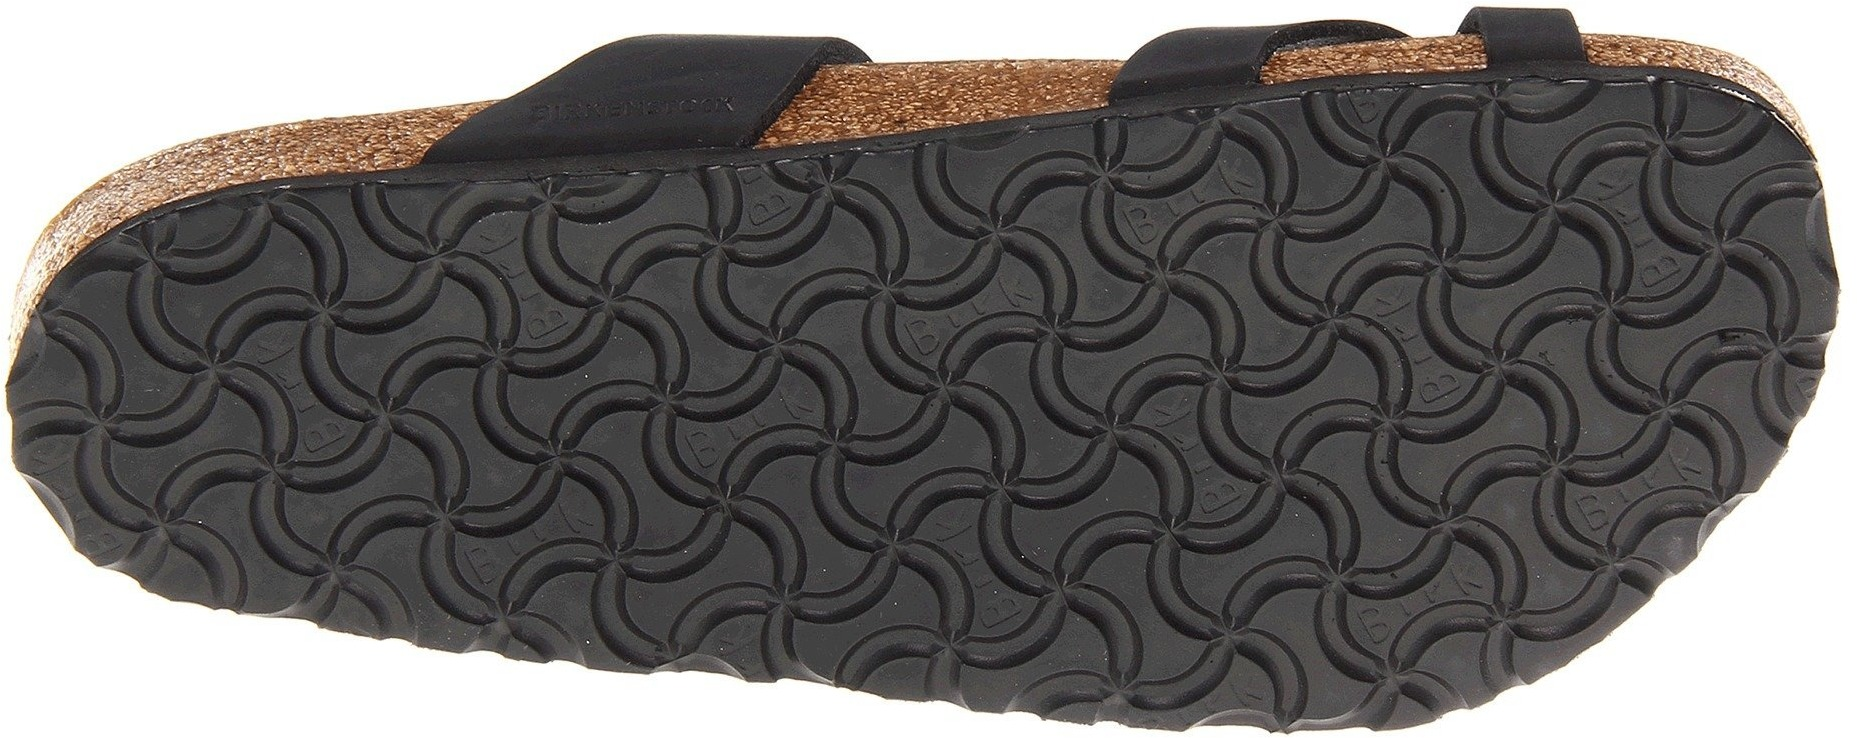bowtie: (1325, 118, 1649, 444), (974, 150, 1303, 443), (658, 177, 943, 443), (94, 272, 370, 498), (388, 210, 642, 434), (1060, 458, 1302, 676), (797, 455, 1034, 663), (520, 439, 733, 661)
text: (1325, 118, 1649, 444), (974, 150, 1303, 443), (658, 177, 943, 443), (94, 272, 370, 498), (388, 210, 642, 434), (1060, 458, 1302, 676), (797, 455, 1034, 663), (520, 439, 733, 661)
